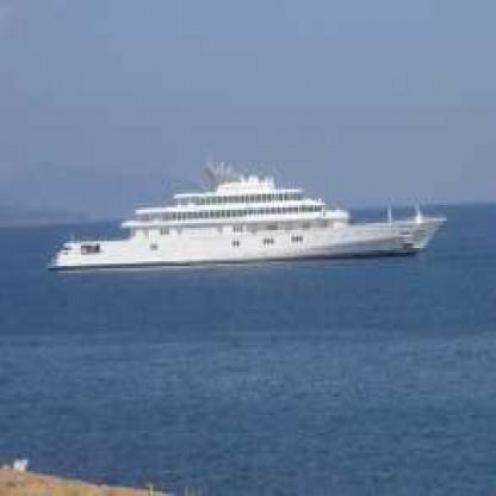Ship: (47, 173, 453, 275)
